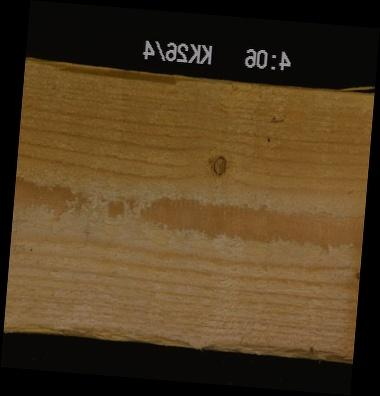dry_knot: (210, 152, 229, 174)
wave: (3, 320, 353, 349), (23, 63, 184, 82)
